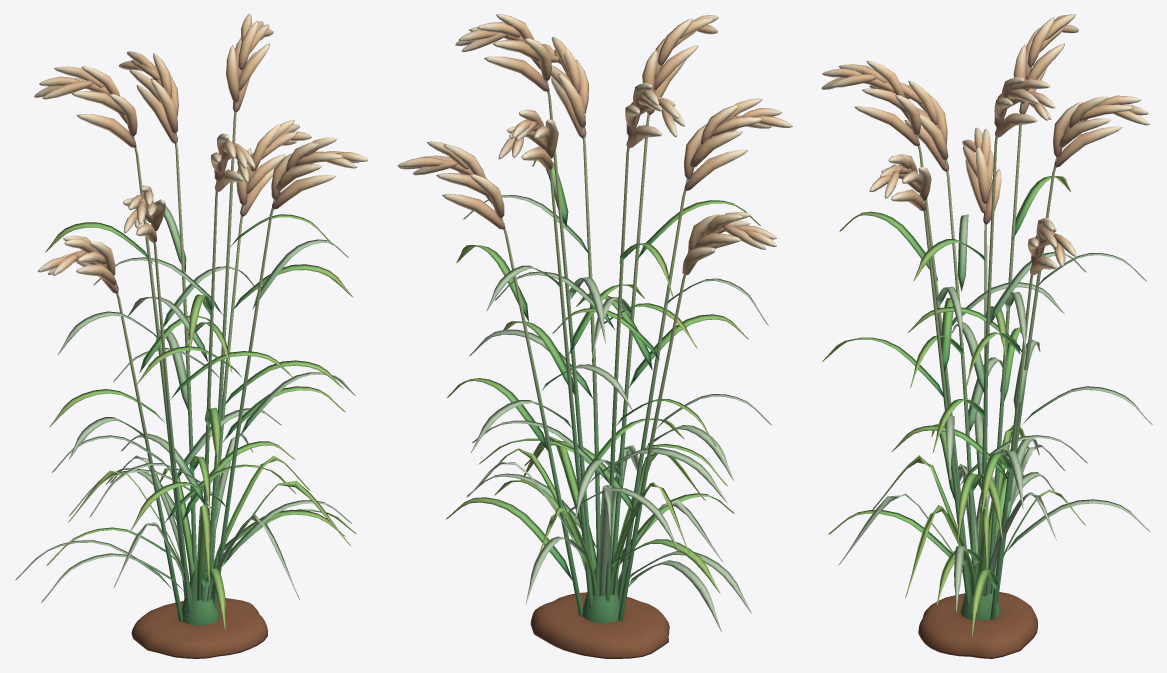
The model's file is reed.glb.
3 renders of one model, left to right at view 1: azimuth 30°, elevation 25°; view 2: azimuth 150°, elevation 25°; view 3: azimuth 270°, elevation 25°, orthographic. The views are drawn at different scales.
Visible parts, largest first — view 1: reed_body; view 2: reed_body; view 3: reed_body.
Boxes of the visible parts, <box> form: reed_body: <box>15,14,368,658</box>; reed_body: <box>397,14,792,658</box>; reed_body: <box>821,14,1152,658</box>.
Size of the model in its own units: 0.9123 by 1.59 by 0.8129.
Materials: 1 (1 with a texture image).
